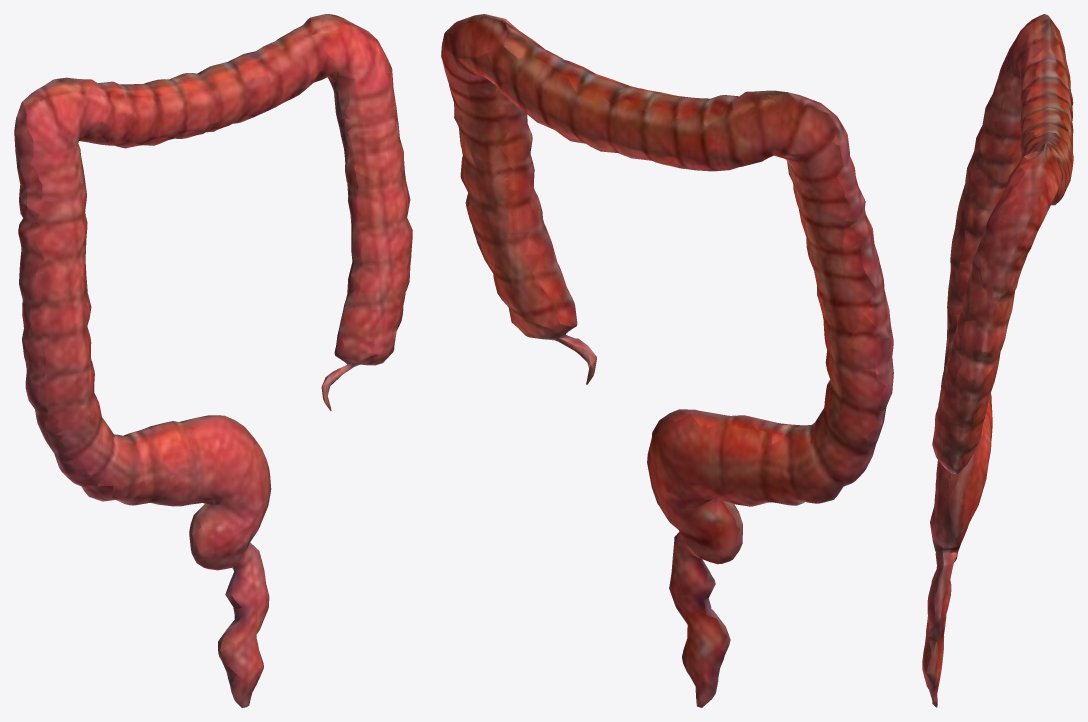
File: intestines.glb
3 views of the same model, side by side, from view 1: azimuth 30°, elevation 25°; view 2: azimuth 150°, elevation 25°; view 3: azimuth 270°, elevation 25° (orthographic). The views are drawn at different scales.
Parts seen in each view (by area): view 1: world; view 2: world; view 3: world.
Part boxes in pixels (x1,y1,x2,y2): world: [14, 14, 412, 707]; world: [441, 14, 893, 707]; world: [922, 14, 1073, 707].
Bounding box in the file's own units: 0.5853 × 0.905 × 0.1995.
1 material, 1 textured.
